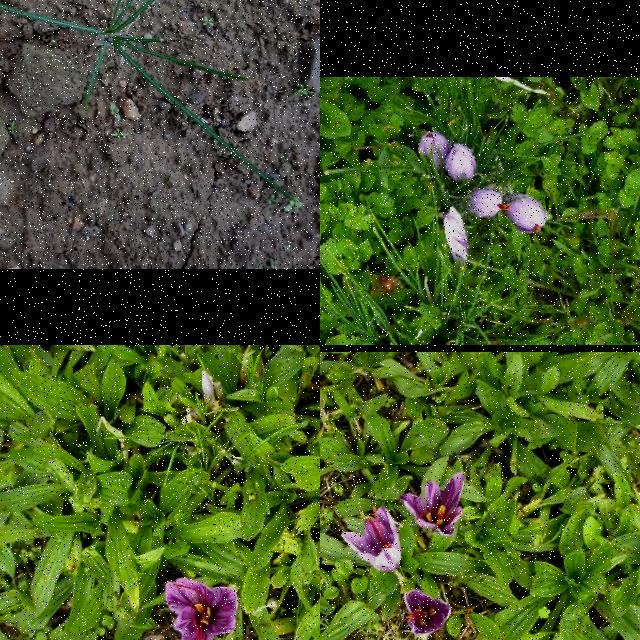flower: (165, 578, 236, 640), (400, 473, 464, 537), (342, 507, 402, 575), (403, 592, 451, 638), (444, 206, 471, 266), (418, 132, 452, 174), (444, 142, 478, 184), (468, 188, 504, 220)
overlap: (418, 132, 477, 184), (502, 193, 548, 233)
